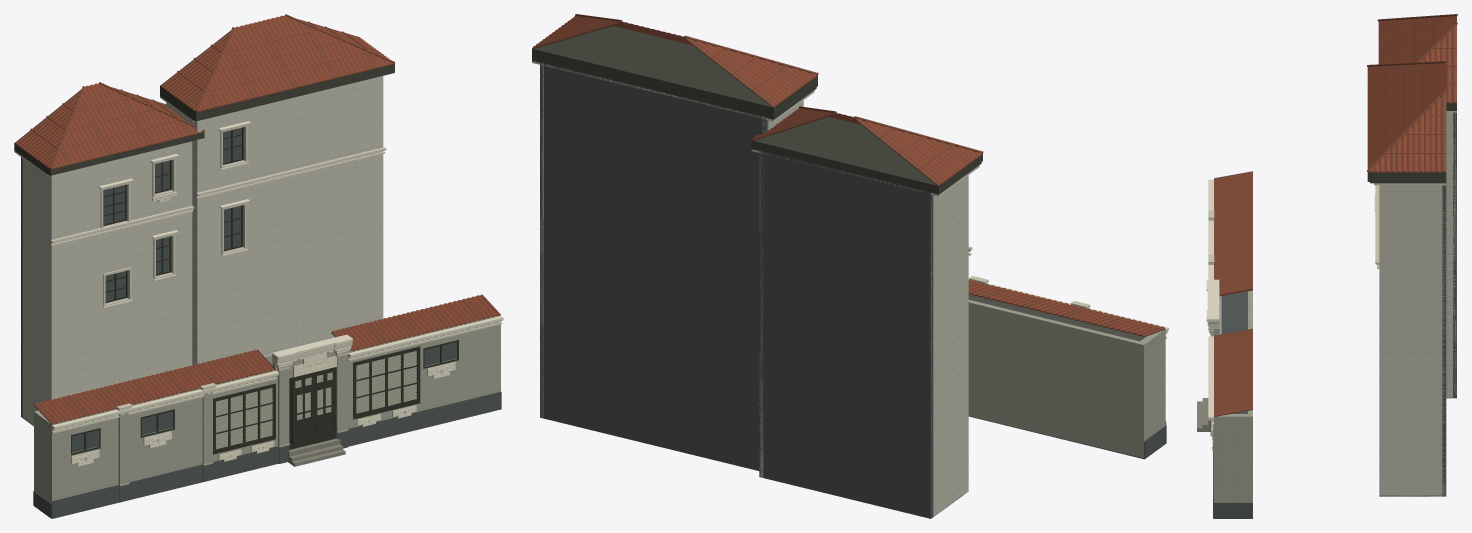
Rendered from xuhui-kangping-196-shuttered-residence-web.glb.
3 renders of one model, left to right at view 1: azimuth 30°, elevation 25°; view 2: azimuth 150°, elevation 25°; view 3: azimuth 270°, elevation 25°, orthographic. The views are drawn at different scales.
Visible parts, largest first — view 1: 康平路196号住宅百叶窗与灰塑; view 2: 康平路196号住宅百叶窗与灰塑; view 3: 康平路196号住宅百叶窗与灰塑.
Part boxes in pixels (bbox=[...]): 康平路196号住宅百叶窗与灰塑: bbox=[14, 14, 503, 518]; 康平路196号住宅百叶窗与灰塑: bbox=[532, 14, 1168, 518]; 康平路196号住宅百叶窗与灰塑: bbox=[1197, 14, 1457, 518].
Bounding box in the file's own units: 19.38 × 14.11 × 8.96.
Materials: 15 (2 with a texture image).
